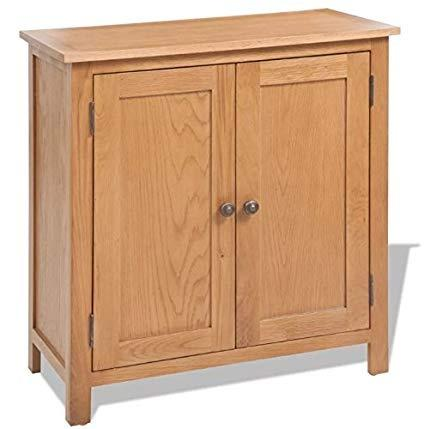cabinet_door: (81, 68, 235, 354), (237, 64, 369, 342)
handle: (244, 197, 259, 222), (221, 199, 233, 222)
